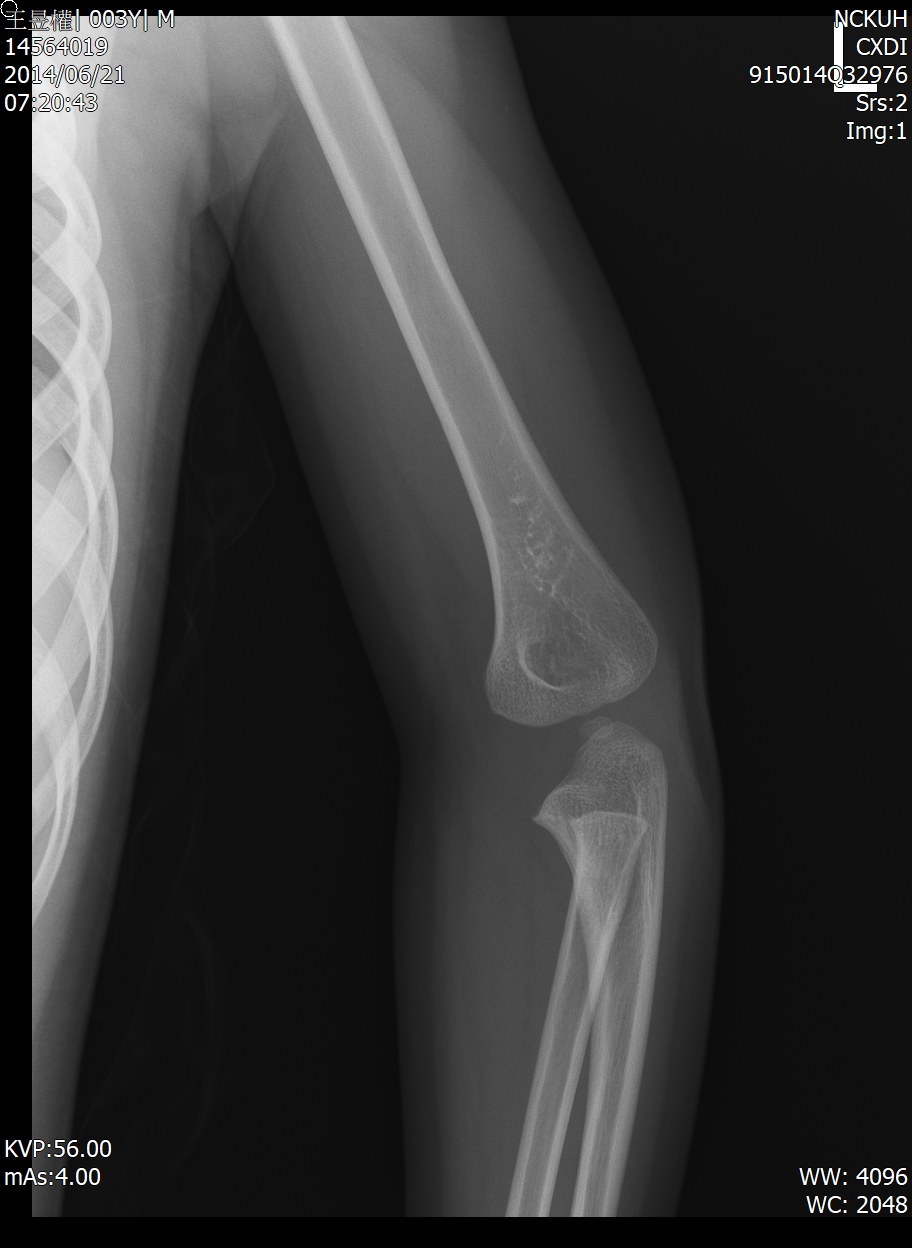Normal: (347, 476, 835, 981)
